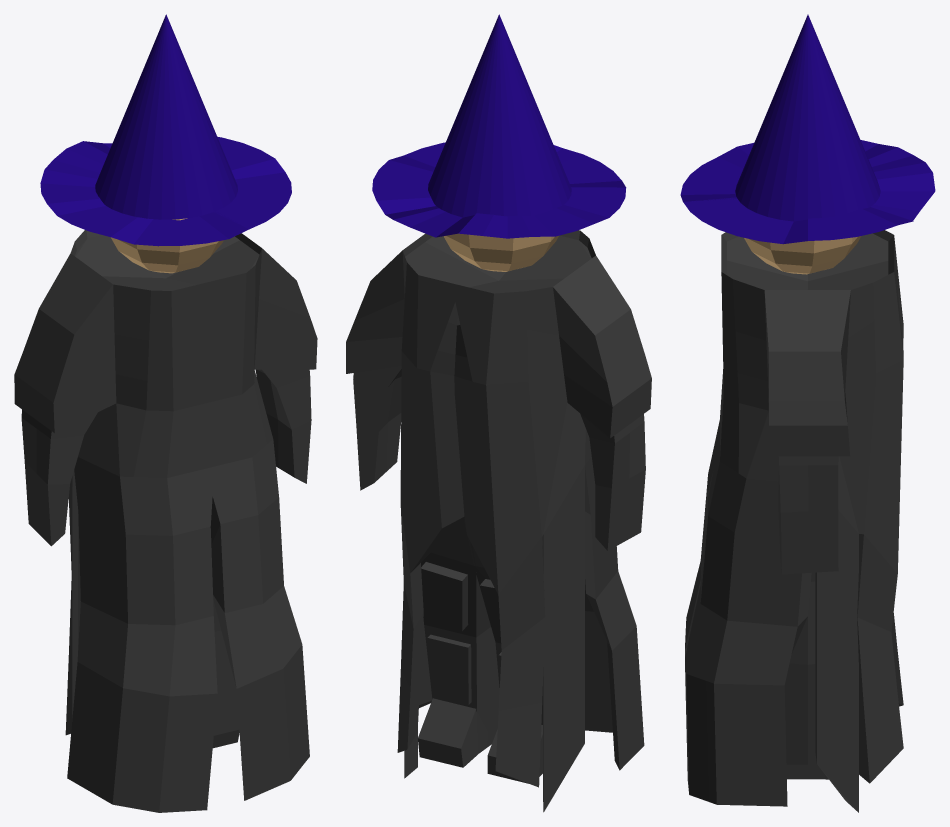
Rendered from wizardfbx.fbx.
The picture shows the model from 3 angles, left to right: view 1: azimuth 30°, elevation 25°; view 2: azimuth 150°, elevation 25°; view 3: azimuth 270°, elevation 25°; orthographic projection.
Visible parts, largest first — view 1: Cube, Cone, Sphere; view 2: Cube, Cone, Sphere; view 3: Cube, Cone, Sphere.
Boxes of the visible parts, x1,y1,x2,y2 form: Cube: (14,230,317,812); Cone: (40,14,291,246); Sphere: (111,218,223,273); Cube: (346,230,651,812); Cone: (372,14,626,238); Sphere: (443,233,558,271); Cube: (685,230,903,812); Cone: (680,14,935,244); Sphere: (744,236,861,274).
Size of the model in its own units: 351 by 960 by 290.
